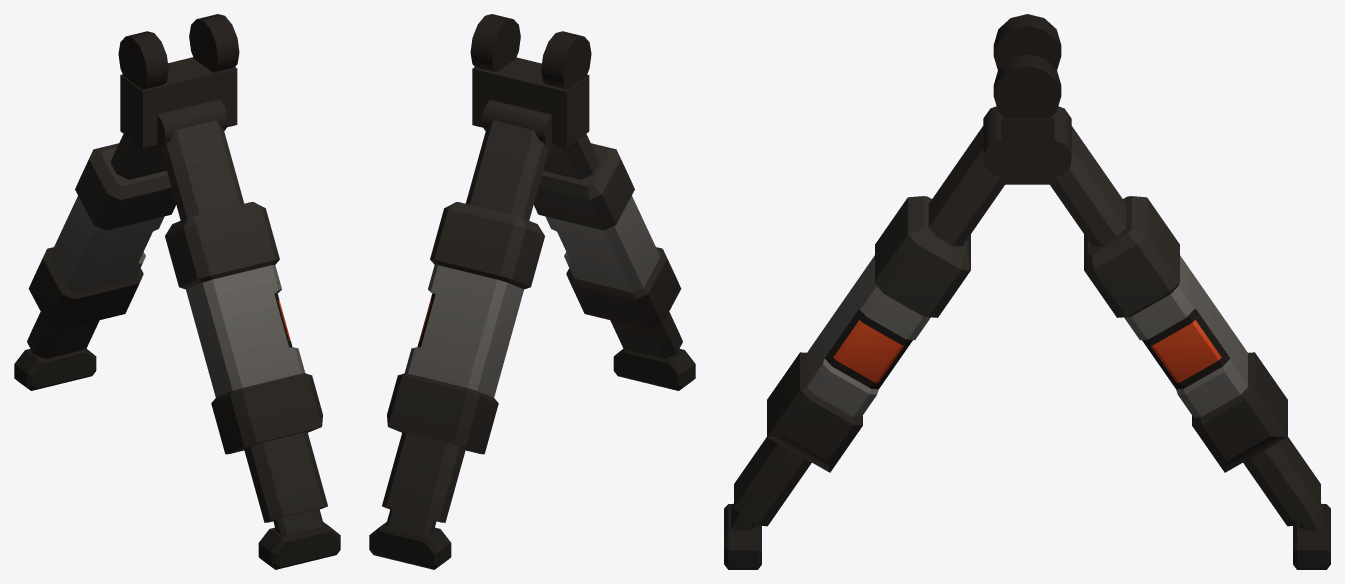
Rendered from MG2_Bipod.fbx.
3 renders of one model, left to right at view 1: azimuth 30°, elevation 25°; view 2: azimuth 150°, elevation 25°; view 3: azimuth 270°, elevation 25°, orthographic. The views are drawn at different scales.
Visible parts, largest first — view 1: MG2_Bipod; view 2: MG2_Bipod; view 3: MG2_Bipod.
Boxes of the visible parts, left/top/right/bottom form: MG2_Bipod: left=14, top=14, right=340, bottom=569; MG2_Bipod: left=369, top=14, right=695, bottom=569; MG2_Bipod: left=724, top=14, right=1330, bottom=569.
Bounding box in the file's own units: 4.79 × 21.41 × 22.94.
